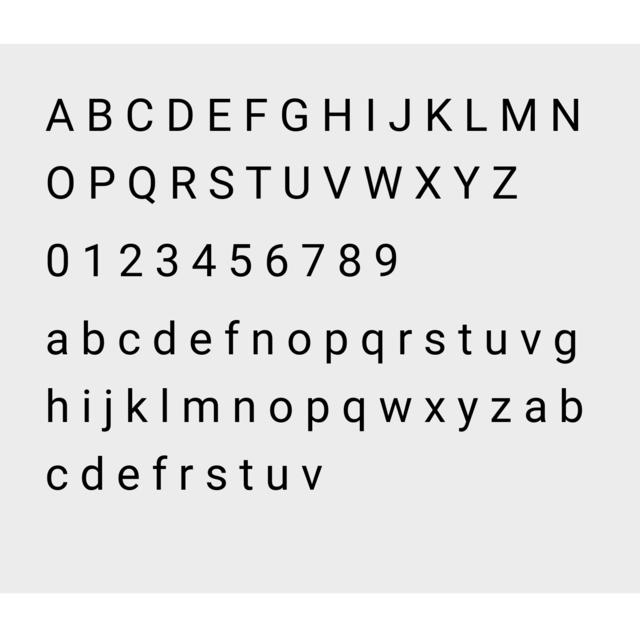alphabet: (363, 164, 404, 200), (502, 97, 538, 132), (128, 165, 156, 205), (321, 165, 351, 200), (280, 96, 308, 133), (48, 165, 76, 201), (414, 164, 442, 200), (183, 397, 220, 424), (47, 97, 75, 132), (490, 165, 518, 200), (127, 97, 154, 133), (552, 98, 580, 132), (452, 165, 479, 200), (282, 165, 309, 200), (325, 98, 352, 132), (245, 165, 271, 200), (168, 96, 193, 132), (156, 242, 180, 279), (378, 398, 412, 424), (385, 98, 411, 132), (91, 165, 116, 200), (171, 165, 196, 200), (89, 96, 113, 132), (210, 164, 234, 200), (360, 329, 383, 366), (427, 97, 452, 131), (308, 397, 330, 435), (154, 319, 176, 357), (208, 96, 231, 132), (302, 243, 326, 277), (84, 320, 106, 357), (82, 453, 104, 490), (343, 397, 365, 434), (560, 388, 582, 425), (554, 329, 576, 366), (339, 241, 361, 278), (231, 241, 253, 278), (120, 242, 143, 277), (376, 242, 398, 278), (456, 398, 478, 434), (48, 242, 70, 278), (327, 329, 348, 366), (127, 386, 148, 423), (267, 244, 289, 279), (246, 97, 268, 132), (192, 243, 215, 275), (465, 97, 486, 132), (49, 388, 69, 424), (286, 330, 310, 357), (205, 462, 228, 490), (269, 398, 293, 424), (423, 328, 445, 356), (234, 397, 256, 424), (119, 463, 141, 490), (302, 465, 324, 492), (191, 330, 213, 357), (120, 328, 142, 355), (226, 318, 242, 354), (48, 464, 70, 490), (489, 396, 511, 422), (424, 396, 445, 423), (524, 398, 545, 424), (520, 330, 541, 356), (46, 330, 66, 357), (252, 329, 272, 356), (268, 464, 288, 490), (486, 330, 506, 356), (155, 454, 169, 490), (86, 242, 100, 277), (458, 324, 472, 356), (240, 458, 253, 490), (398, 328, 412, 354), (180, 464, 194, 489), (364, 98, 374, 132), (82, 390, 89, 425), (163, 388, 169, 424)
